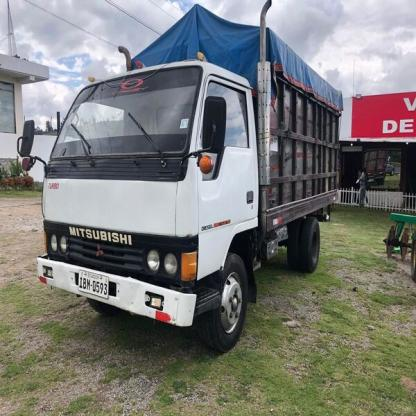Placa: (75, 269, 110, 301)
